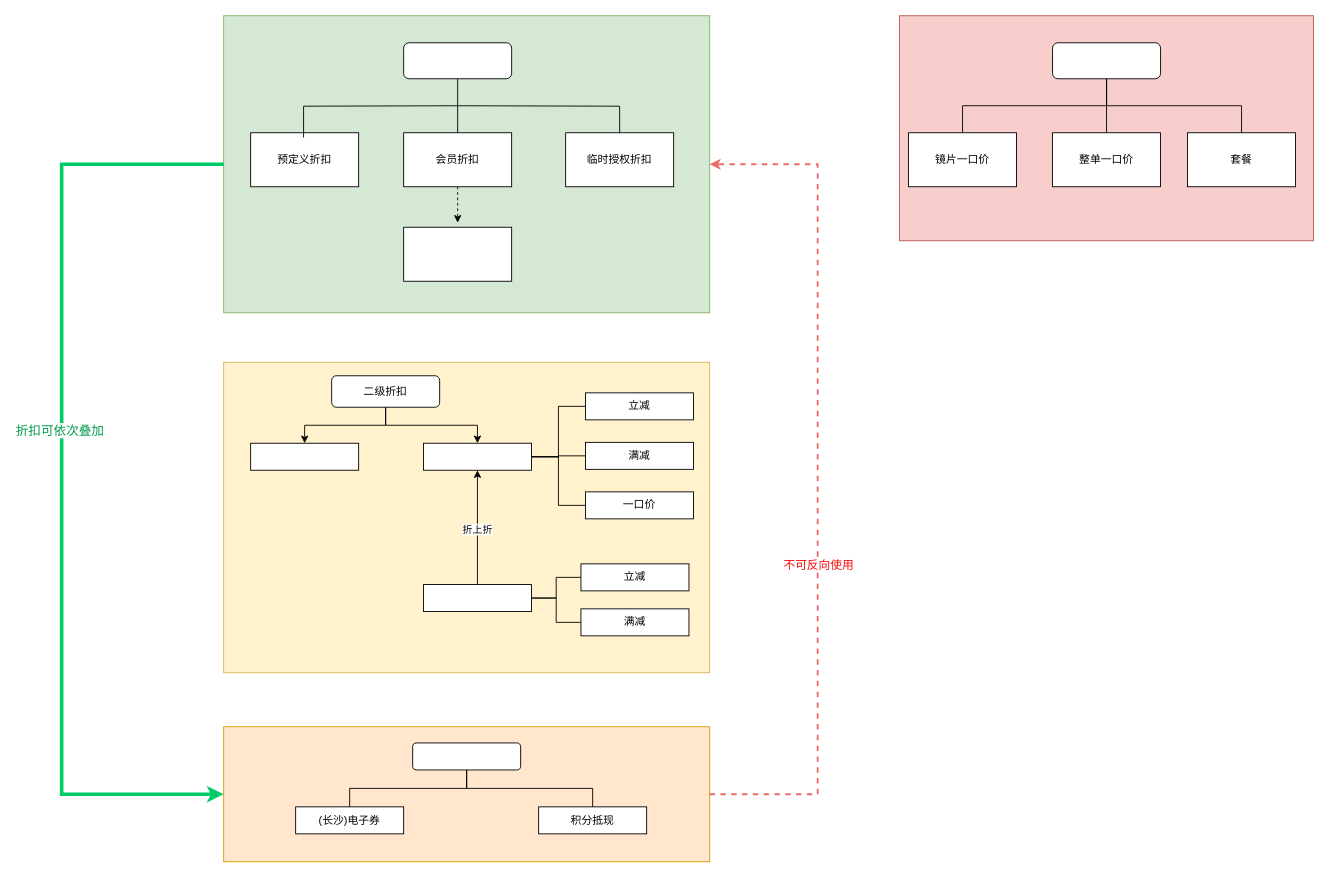
The diagram is 1329 pixels wide and 878 high, and some of its shapes have lost their labels. Here are the shapes that lost their labels. From the top down, the box of each, then its label:
(403, 42, 512, 79): 一级折扣
(1052, 42, 1161, 79): 不可叠加折扣
(403, 226, 512, 281): 付费会员折扣
(250, 442, 359, 470): 优惠券核销
(423, 442, 531, 470): 互联网券核销
(423, 584, 531, 612): 集团券核销
(412, 742, 521, 770): 三级折扣
